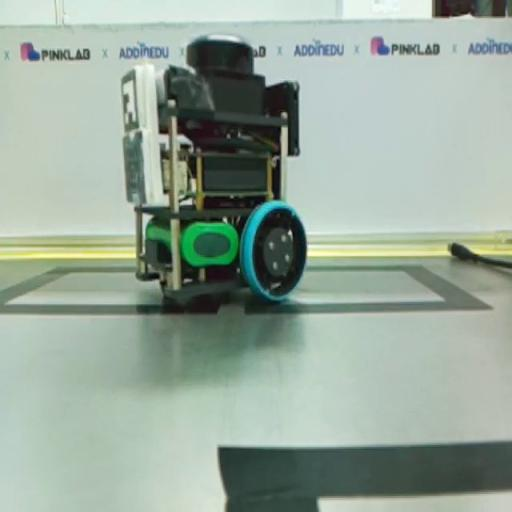pinky_63: (120, 34, 306, 305)
